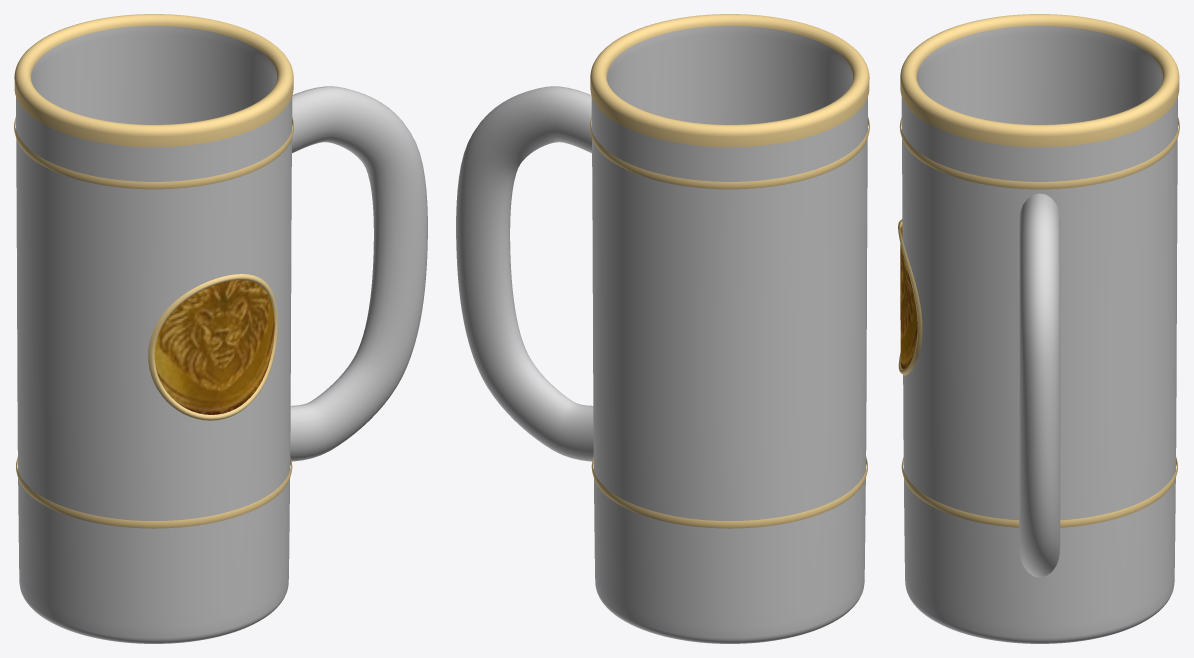
The model's file is mug.glb.
3 renders of one model, left to right at view 1: azimuth 30°, elevation 25°; view 2: azimuth 150°, elevation 25°; view 3: azimuth 270°, elevation 25°, orthographic.
Parts seen in each view (by area): view 1: mug_Glass, mug_Handle, mug_Medallion, mug_Rim, mug_Bezel, mug_Band1, mug_Band0; view 2: mug_Glass, mug_Handle, mug_Rim, mug_Band1, mug_Band0; view 3: mug_Glass, mug_Handle, mug_Rim, mug_Band1, mug_Band0, mug_Medallion, mug_Bezel.
Part boxes in pixels (x1=…): mug_Glass: x1=16, y1=25, x2=292, y2=643; mug_Handle: x1=290, y1=86, x2=427, y2=461; mug_Medallion: x1=154, y1=280, x2=274, y2=414; mug_Rim: x1=14, y1=14, x2=293, y2=147; mug_Bezel: x1=148, y1=274, x2=277, y2=420; mug_Band1: x1=14, y1=117, x2=293, y2=189; mug_Band0: x1=16, y1=456, x2=292, y2=528; mug_Glass: x1=591, y1=25, x2=867, y2=643; mug_Handle: x1=456, y1=86, x2=593, y2=461; mug_Rim: x1=590, y1=14, x2=869, y2=147; mug_Band1: x1=590, y1=117, x2=869, y2=189; mug_Band0: x1=591, y1=456, x2=867, y2=528; mug_Glass: x1=901, y1=25, x2=1177, y2=643; mug_Handle: x1=1019, y1=193, x2=1060, y2=577; mug_Rim: x1=900, y1=14, x2=1179, y2=147; mug_Band1: x1=899, y1=117, x2=1179, y2=189; mug_Band0: x1=901, y1=457, x2=1177, y2=527; mug_Medallion: x1=900, y1=224, x2=917, y2=369; mug_Bezel: x1=898, y1=219, x2=922, y2=375.
Size of the model in its own units: 0.1332 by 0.1683 by 0.0827.
Materials: 3 (1 with a texture image).
